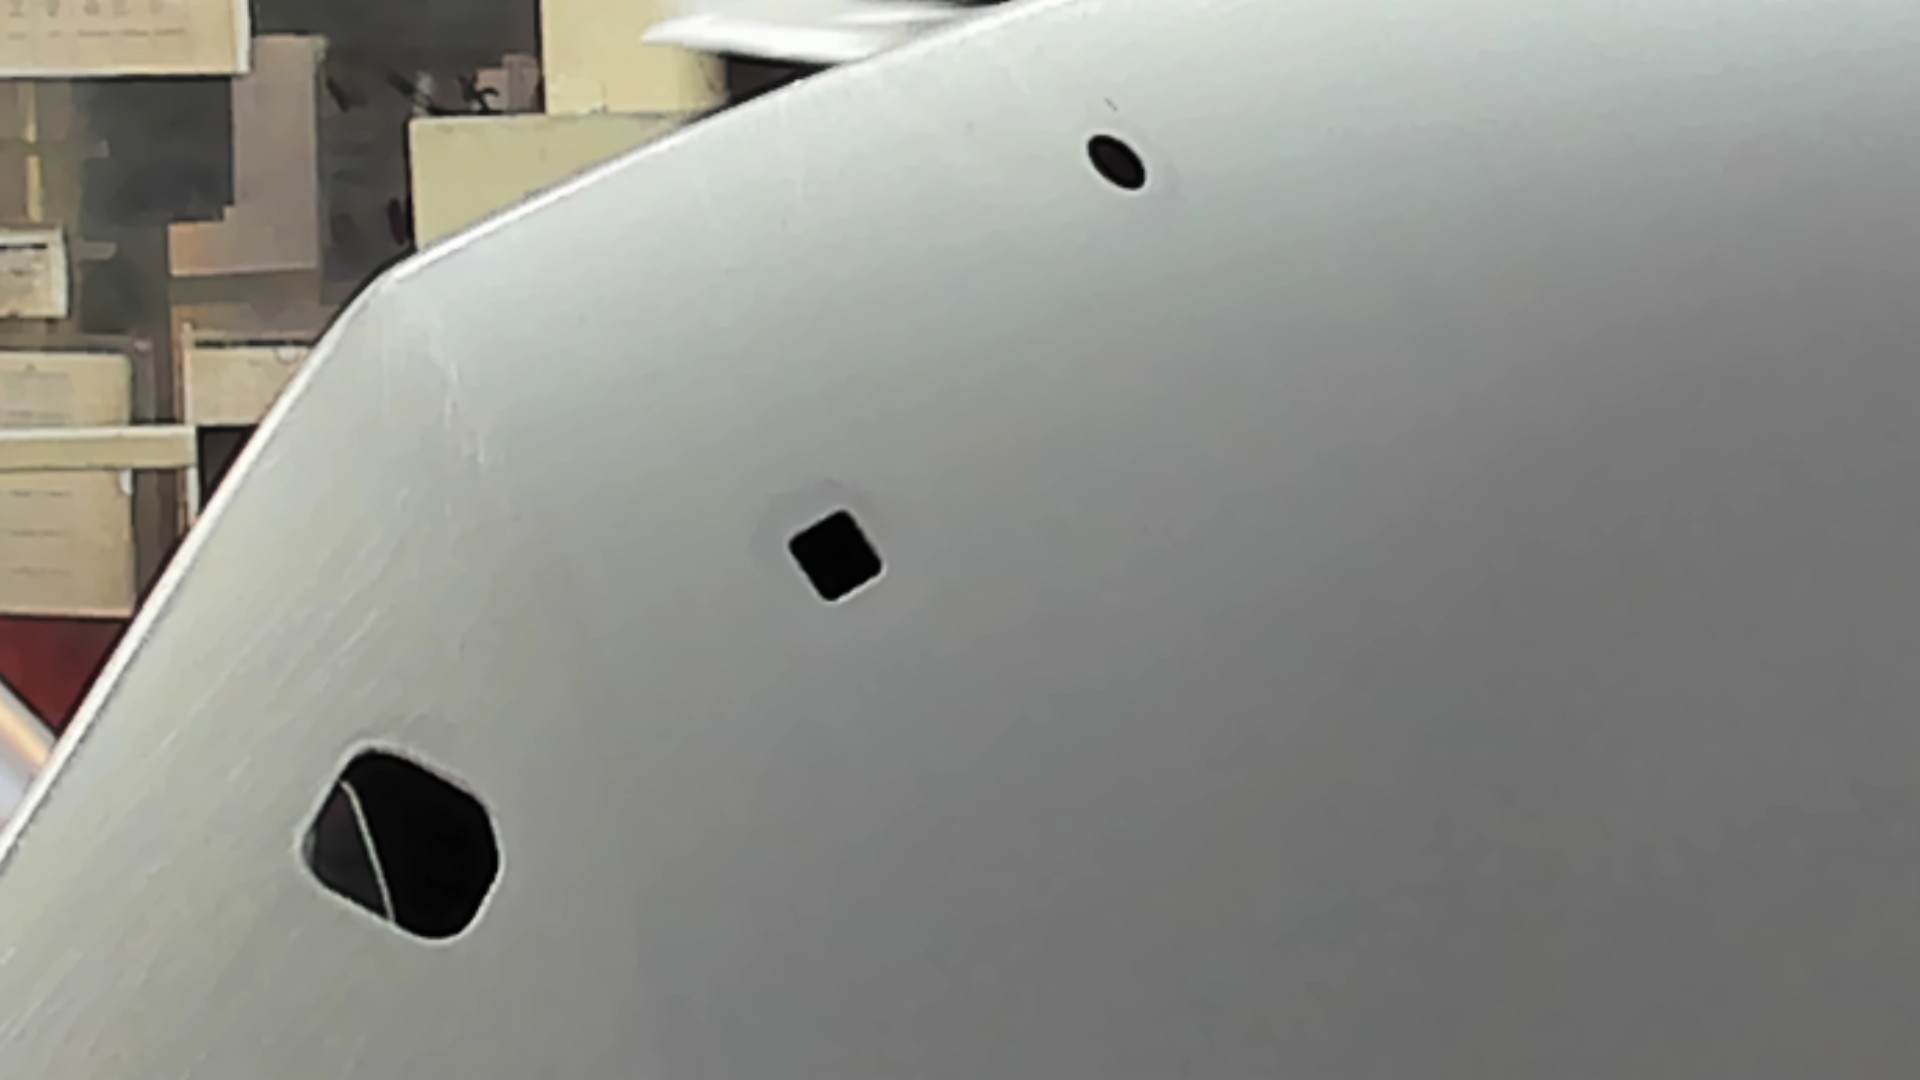capo: (894, 196, 1920, 1080)
chico: (1083, 127, 1149, 194)
grande: (295, 742, 510, 945)
mediano: (779, 501, 891, 608)
